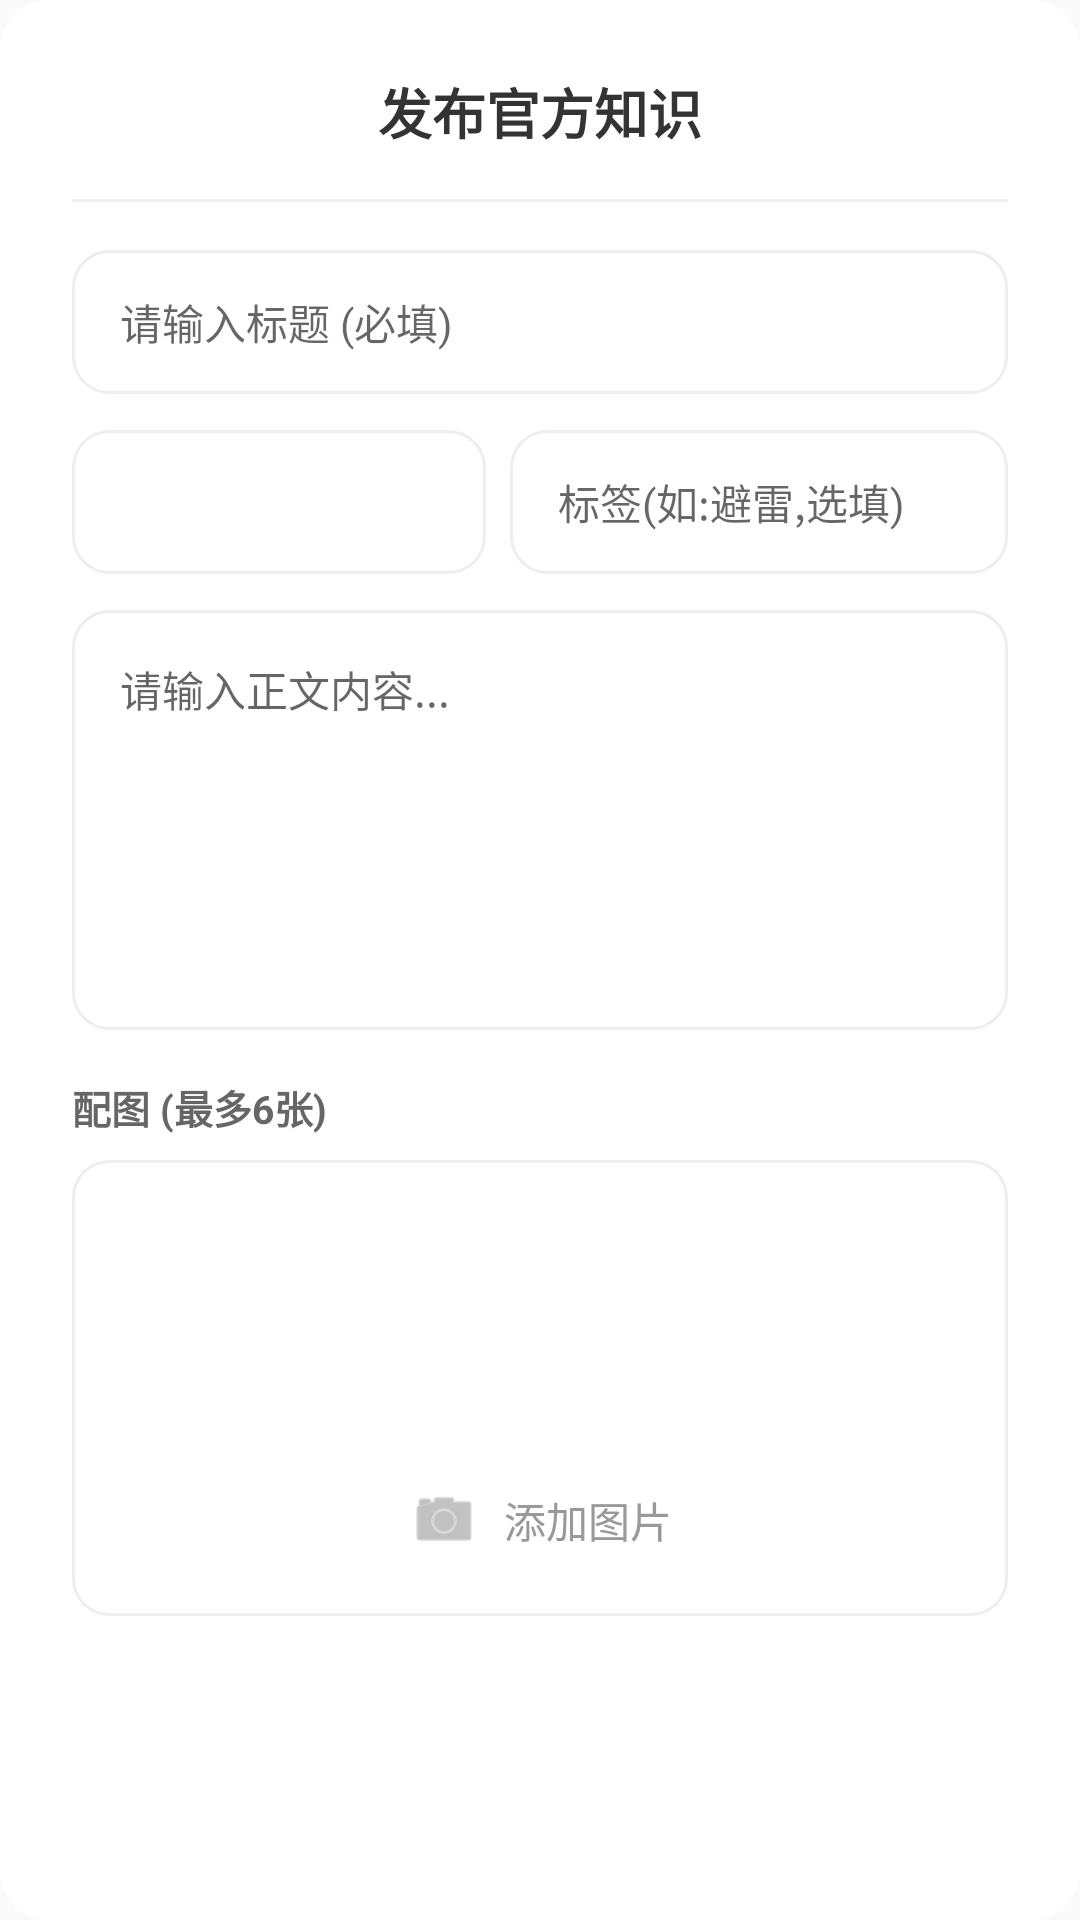

Icon click points for this 1080 × 1920 phone screenshot, format (x=x, y=y):
camera: (x=444, y=1519)
